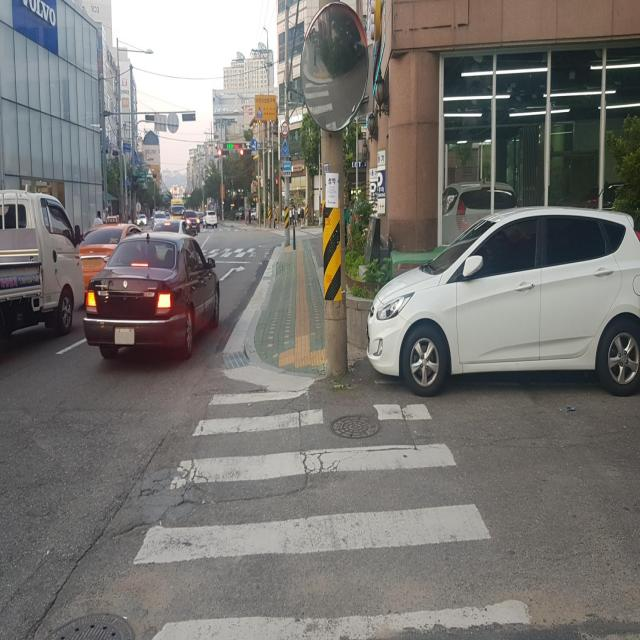횡단보도: (131, 387, 533, 637), (198, 235, 274, 260)
